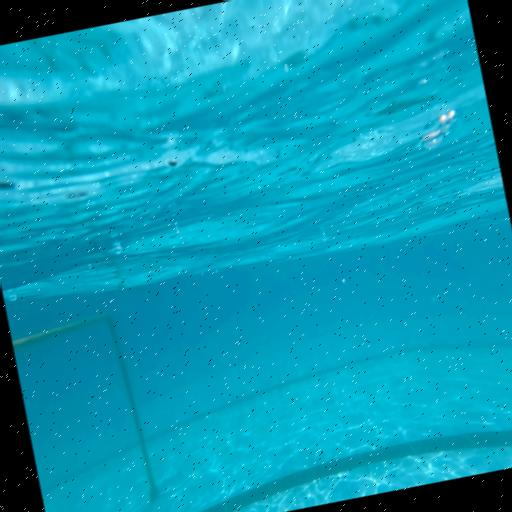gate: (9, 307, 163, 512)
